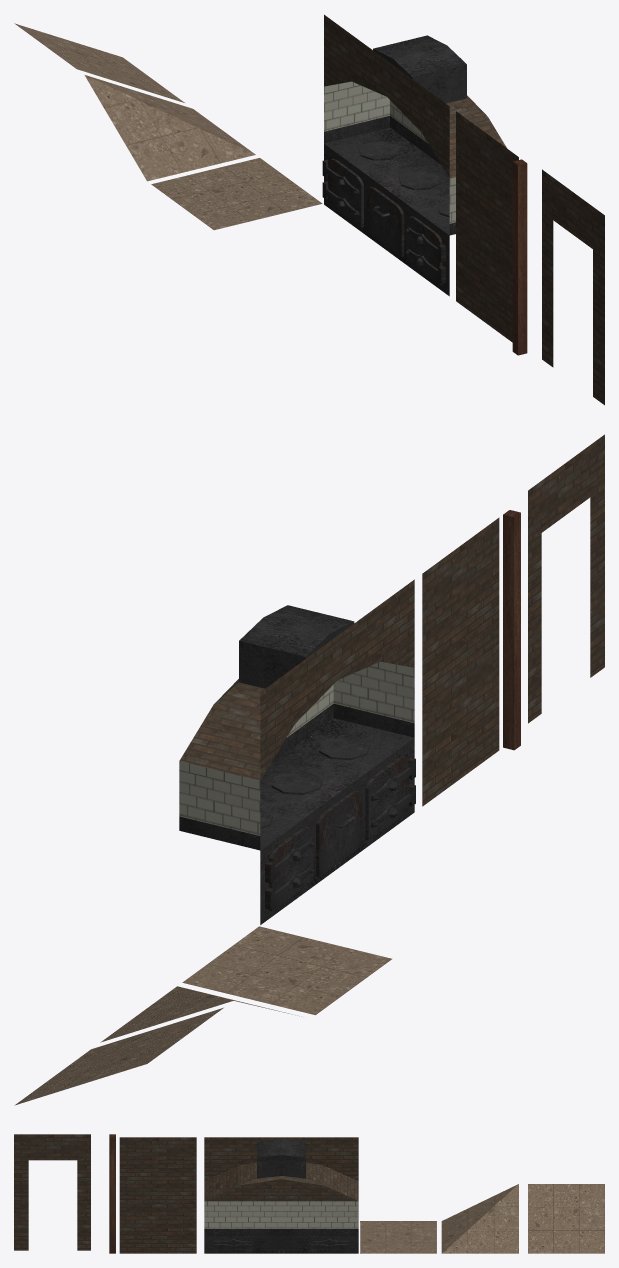
Rendered from AssetsCozinha.fbx.
3 views of the same model, one above another, from view 1: azimuth 30°, elevation 25°; view 2: azimuth 150°, elevation 25°; view 3: azimuth 270°, elevation 25° (orthographic). The views are drawn at different scales.
Visible parts, largest first — view 1: fogao, paredeCozinha, tetoLateralCozinha, ChaoCozinha, paredeCozinhaPorta, pilarCozinha, tetoIclinado; view 2: fogao, paredeCozinha, ChaoCozinha, paredeCozinhaPorta, tetoIclinado, pilarCozinha, tetoLateralCozinha; view 3: fogao, paredeCozinha, tetoIclinado, paredeCozinhaPorta, tetoLateralCozinha, ChaoCozinha, pilarCozinha.
Boxes of the visible parts, x1,y1,x2,y2 form: fogao: (322,14,506,296); paredeCozinha: (456,111,518,342); tetoLateralCozinha: (84,75,255,181); ChaoCozinha: (151,158,322,230); paredeCozinhaPorta: (542,169,604,405); pilarCozinha: (512,159,527,355); tetoIclinado: (14,23,184,102); fogao: (179,579,415,924); paredeCozinha: (422,517,499,806); ChaoCozinha: (182,926,392,1015); paredeCozinhaPorta: (528,434,604,723); tetoIclinado: (14,1007,223,1105); pilarCozinha: (503,510,520,750); tetoLateralCozinha: (100,986,299,1042); fogao: (204,1137,358,1253); paredeCozinha: (119,1137,196,1253); tetoIclinado: (528,1184,604,1253); paredeCozinhaPorta: (14,1134,90,1250); tetoLateralCozinha: (441,1184,518,1253); ChaoCozinha: (360,1221,436,1253); pilarCozinha: (109,1134,115,1253).
Size of the model in its own units: 3.49 by 3.71 by 16.64.
